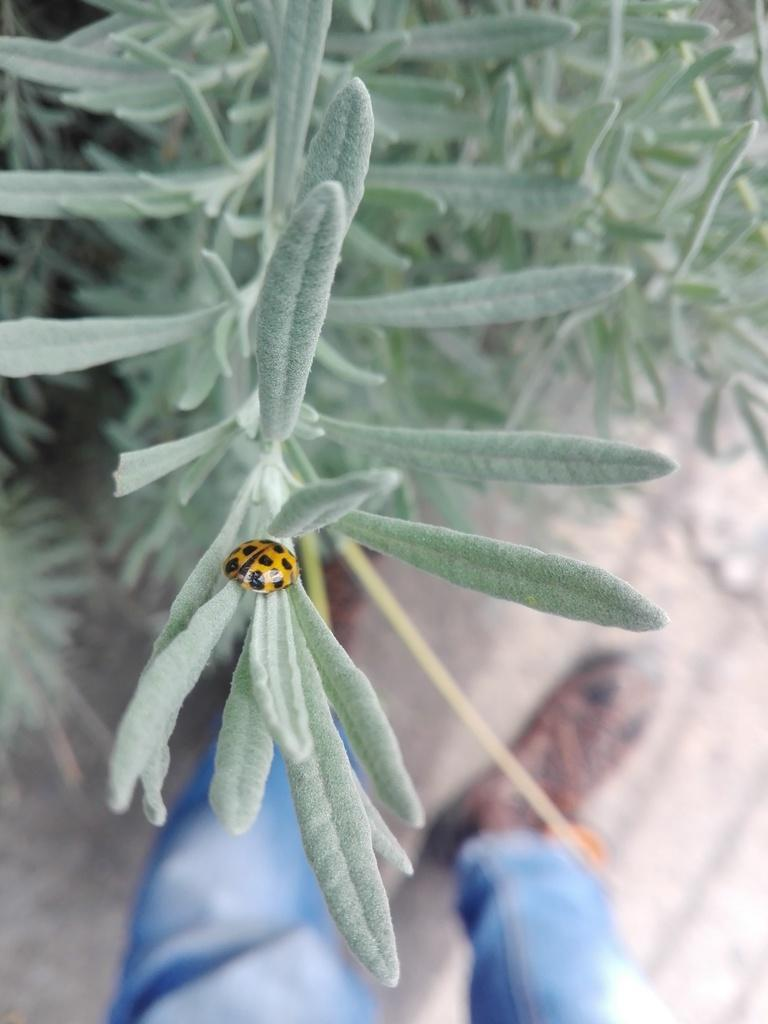ladybug: (223, 537, 305, 600)
